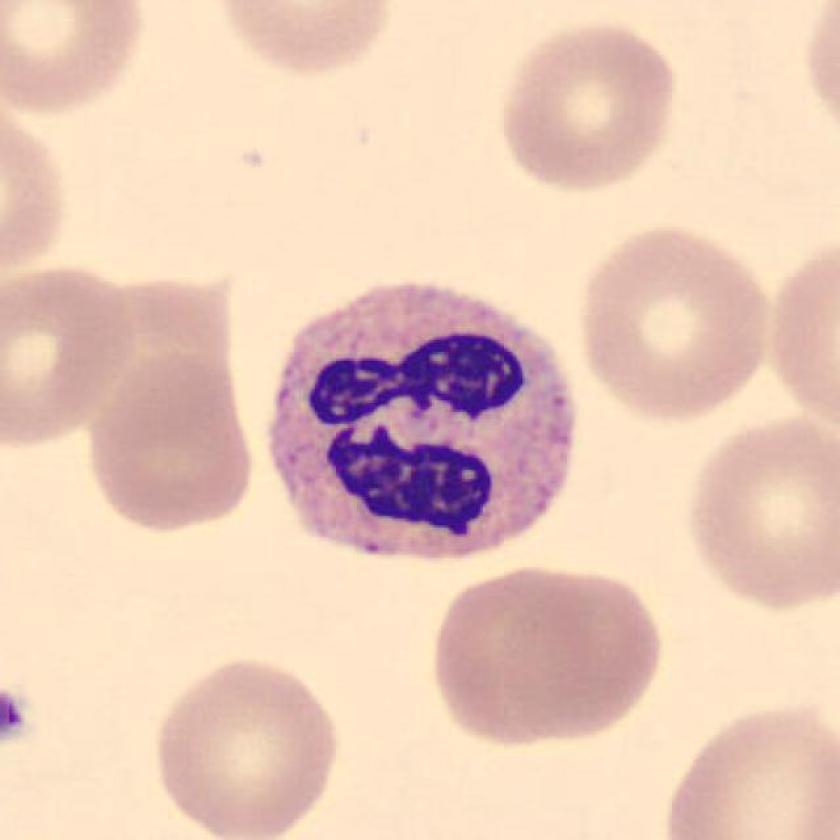neutrophil: (268, 283, 574, 559)
